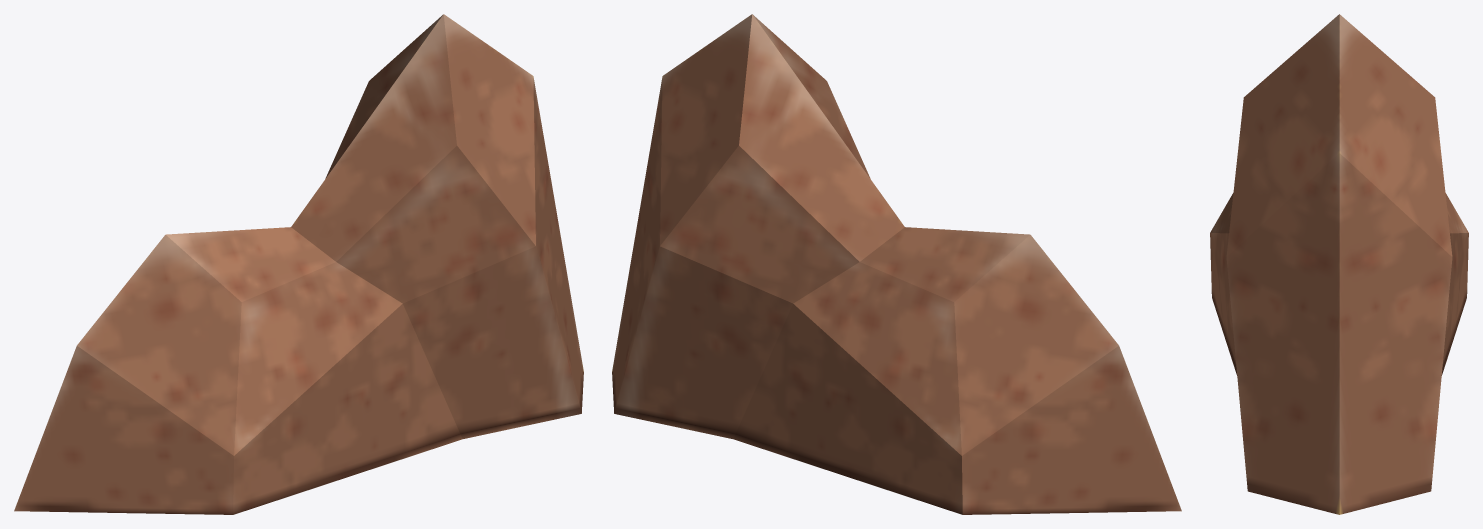
Rendered from Rock_4.fbx.
The picture shows the model from 3 angles, left to right: view 1: azimuth 30°, elevation 25°; view 2: azimuth 150°, elevation 25°; view 3: azimuth 270°, elevation 25°; orthographic projection. The views are drawn at different scales.
Visible parts, largest first — view 1: Rock_4; view 2: Rock_4; view 3: Rock_4.
Part boxes in pixels (x1,y1,x2,y2): Rock_4: (14,14,583,514); Rock_4: (612,14,1181,514); Rock_4: (1210,14,1468,514).
Bounding box in the file's own units: 397 × 261 × 144.
